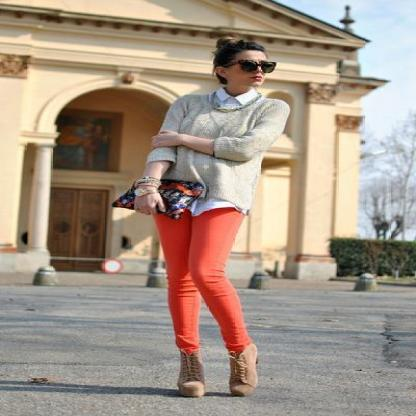bag: (155, 160, 207, 218)
pants: (152, 207, 250, 359)
shirt: (158, 78, 289, 215)
shoe: (174, 341, 261, 397)
sunglass: (240, 60, 276, 74)
